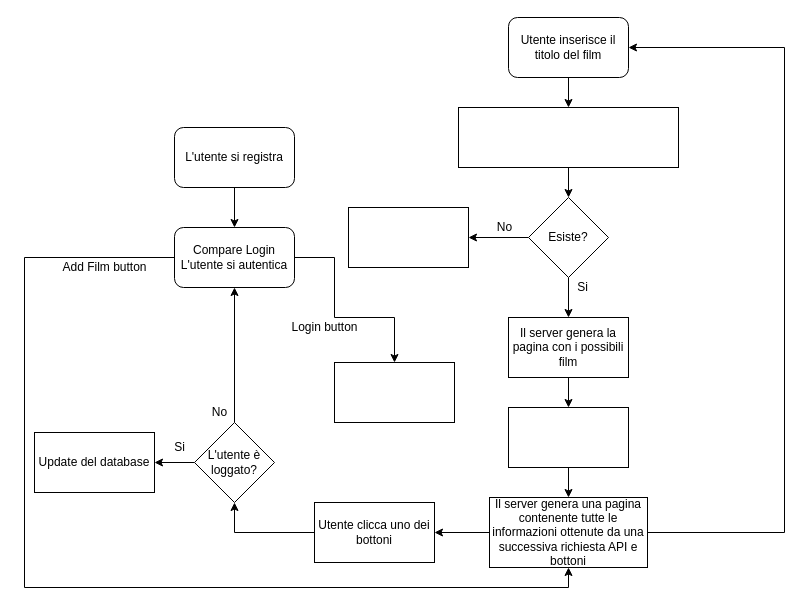
The diagram is 810 pixels wide and 613 high, and some of its shapes have lost their labels. The box of each missing label's shape, as (x1, y1, x2, y2) in pixels:
Il server effettua una richiesta alla API e ottiene i dati in formato JSON: (458, 106, 678, 168)
Il server genera la pagina privata: (334, 362, 454, 422)
Mostra pagina di errore: (348, 206, 468, 268)
Utente clicca il film: (508, 406, 628, 468)
